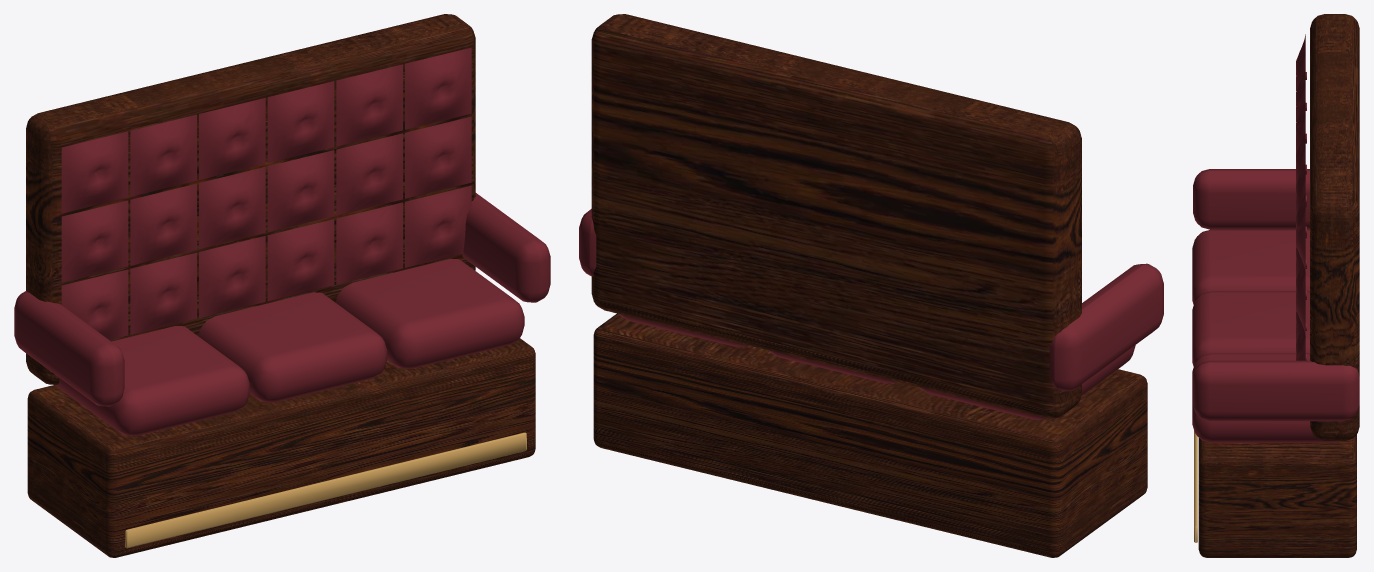
The model's file is booth-bench.glb.
The picture shows the model from 3 angles, left to right: view 1: azimuth 30°, elevation 25°; view 2: azimuth 150°, elevation 25°; view 3: azimuth 270°, elevation 25°; orthographic projection. The views are drawn at different scales.
Visible parts, largest first — view 1: booth-bench; view 2: booth-bench; view 3: booth-bench.
Boxes of the visible parts, bbox=[...] form: booth-bench: bbox=[14, 14, 550, 557]; booth-bench: bbox=[579, 14, 1163, 557]; booth-bench: bbox=[1192, 14, 1359, 557].
Size of the model in its own units: 3.34 by 2.7 by 1.15.
3 materials, 1 textured.
